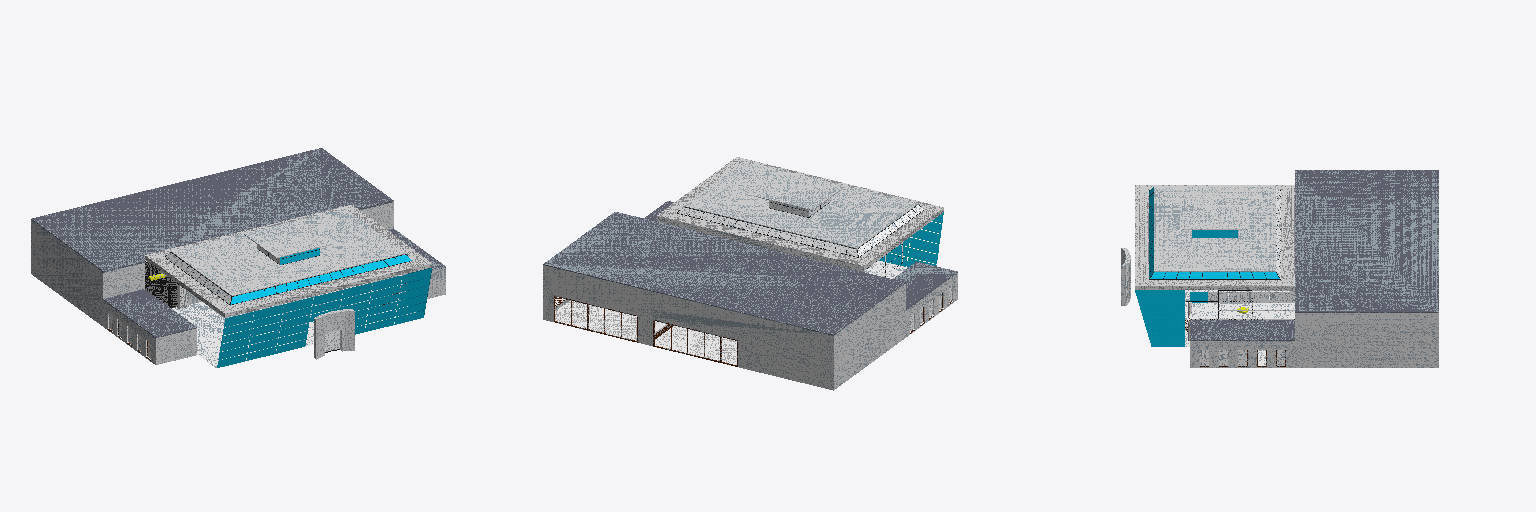
3 views of the same model, side by side, from view 1: azimuth 30°, elevation 25°; view 2: azimuth 150°, elevation 25°; view 3: azimuth 270°, elevation 25° (orthographic).
Parts seen in each view (by area): view 1: Mesh22 Model, Mesh25 Model; view 2: Mesh22 Model; view 3: Mesh22 Model, Mesh25 Model.
Boxes of the visible parts, <box> form: Mesh22 Model: <box>31,148,445,367</box>; Mesh25 Model: <box>314,309,354,359</box>; Mesh22 Model: <box>543,157,957,390</box>; Mesh22 Model: <box>1135,170,1438,367</box>; Mesh25 Model: <box>1121,248,1130,305</box>.
Size of the model in its own units: 35 by 9.47 by 33.18.
13 materials, 2 textured.